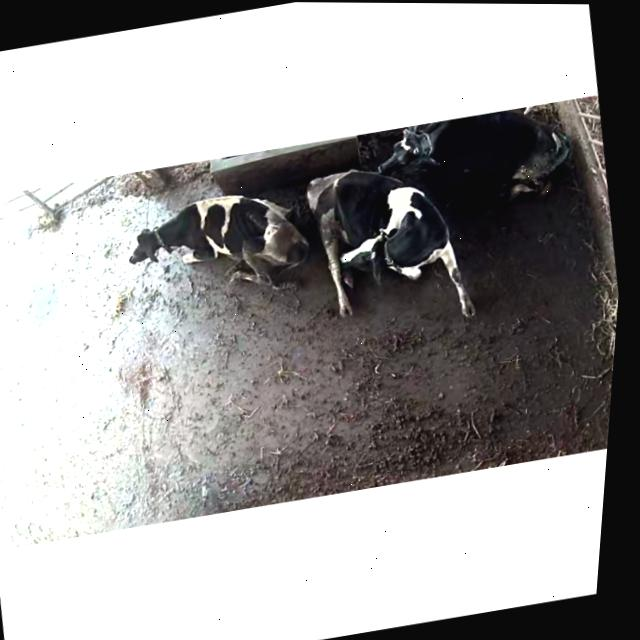lay: (290, 145, 496, 345), (107, 163, 322, 322), (376, 99, 578, 207)
